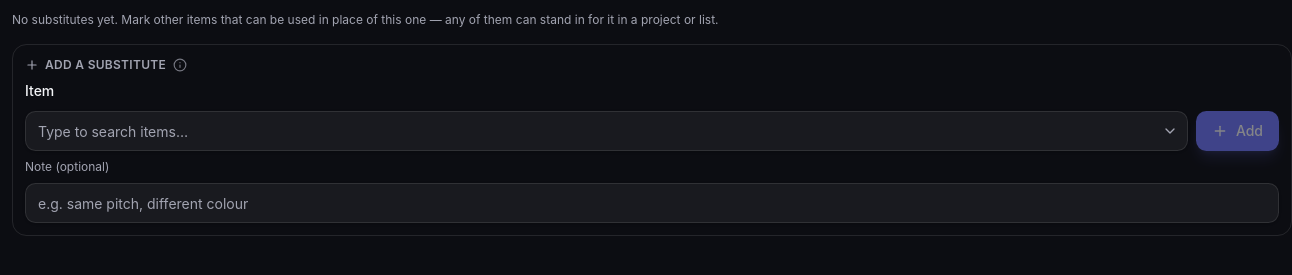
SubstitutionsEditor — add a substitute › surfaces an add failure in an alert
Click the dropdown labelled "Item" at {"x": 606, "y": 131}, box [25,111,1188,151]
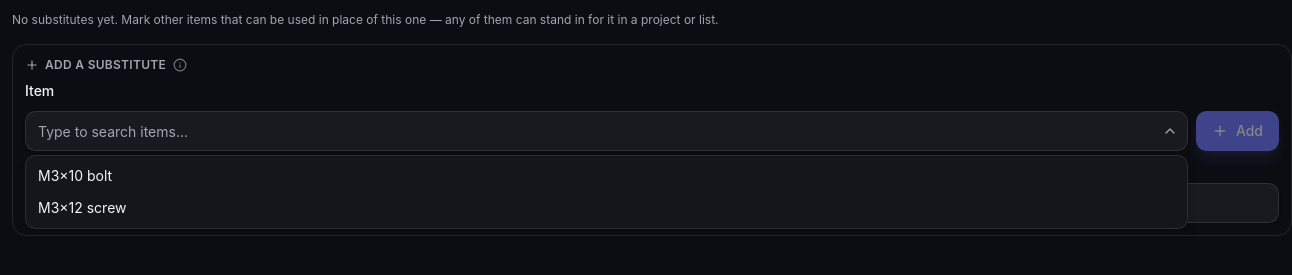
Press the mouse on the option "M3×10 bolt" at {"x": 75, "y": 176}, box [38,167,112,184]
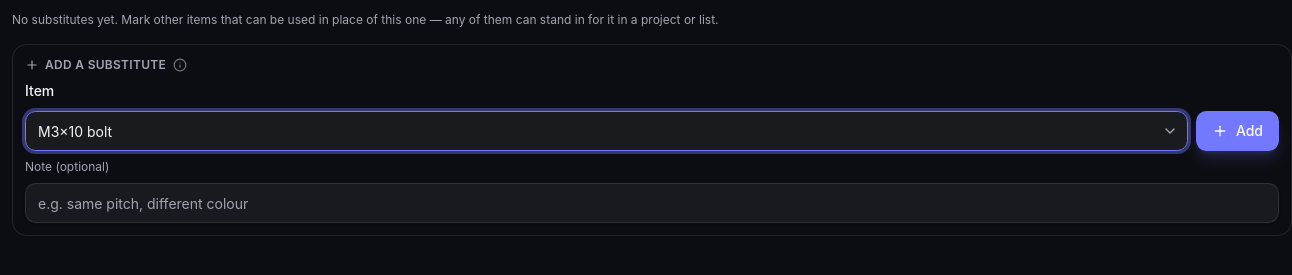
Click the button with test id "add-substitution" at {"x": 1237, "y": 131}, box [1196,111,1279,151]
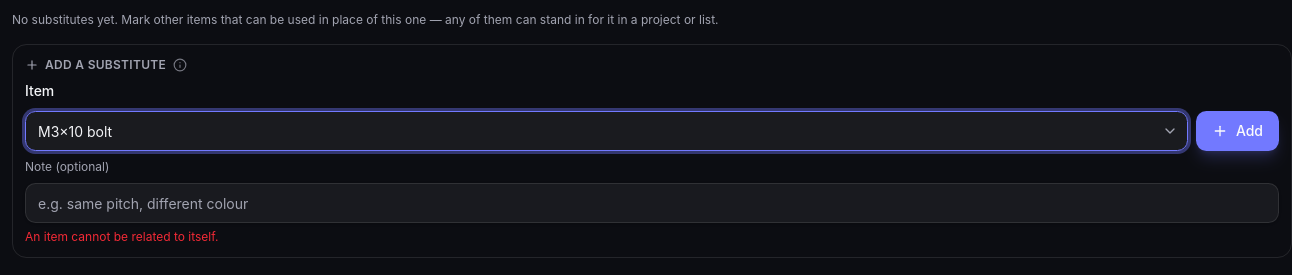
Check: the message reads "An item cannot be related to itself.", box [25,229,218,244]
